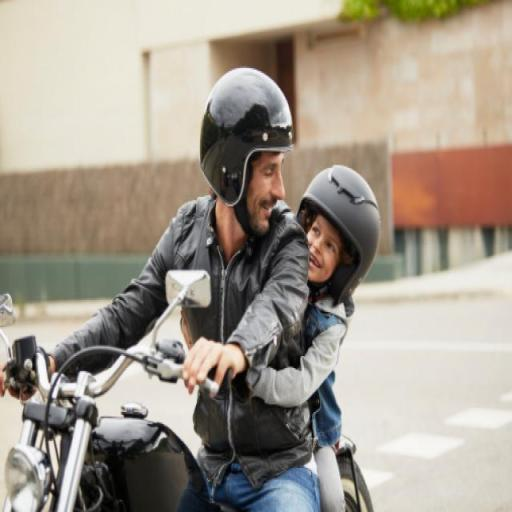Helmet: (189, 62, 303, 239), (303, 149, 385, 309)
Motor: (23, 344, 384, 512)
